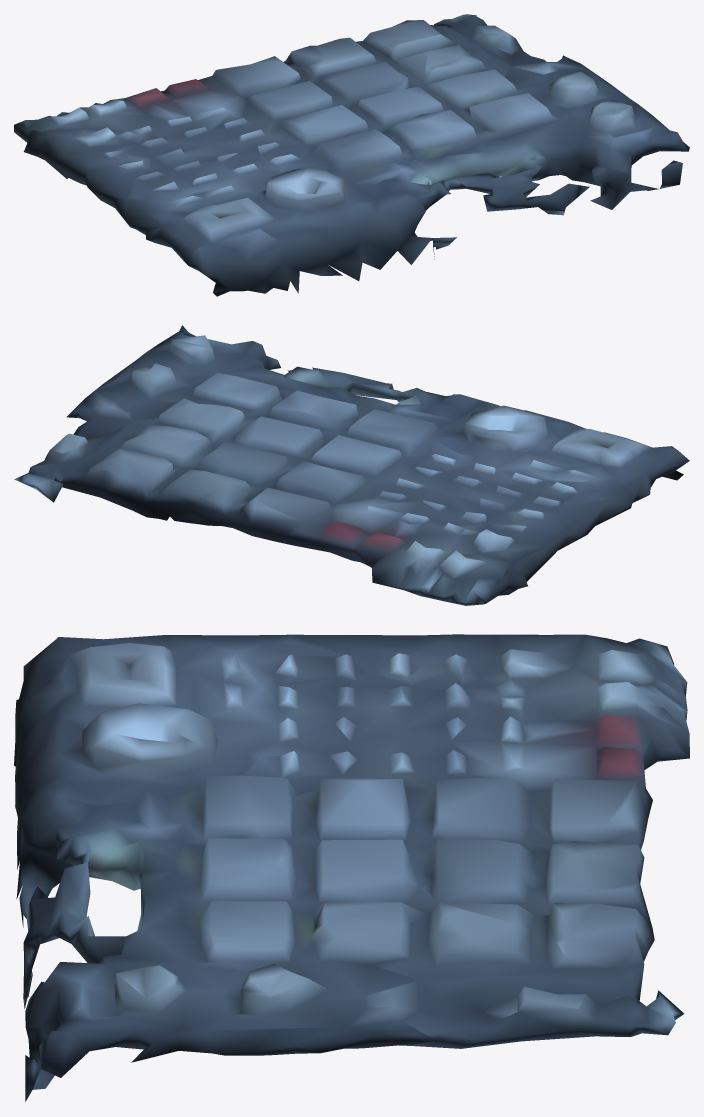
File: Pad02.fbx
3 renders of one model, top to bottom at view 1: azimuth 30°, elevation 25°; view 2: azimuth 150°, elevation 25°; view 3: azimuth 270°, elevation 25°, orthographic. The views are drawn at different scales.
Parts seen in each view (by area): view 1: Model; view 2: Model; view 3: Model.
Boxes of the visible parts, <box> form: Model: <box>14,14,689,296</box>; Model: <box>14,325,689,605</box>; Model: <box>14,634,689,1101</box>.
Bounding box in the file's own units: 1.95 × 0.2811 × 1.33.
